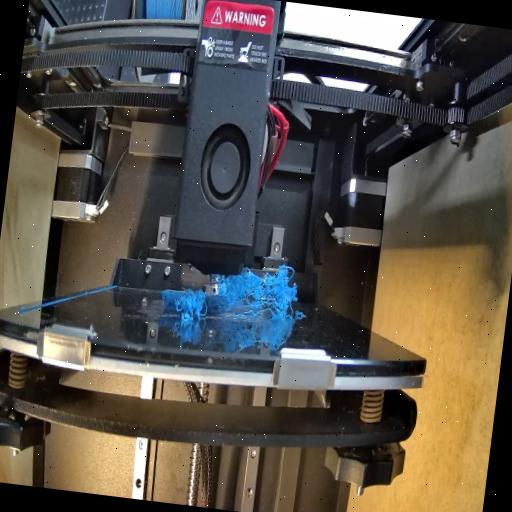spaghetti: (212, 262, 300, 320), (171, 282, 210, 325)
